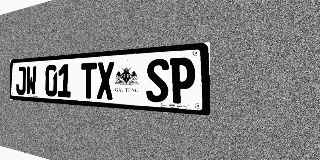0: (45, 65, 57, 97)
1: (57, 64, 71, 97)
J: (16, 66, 26, 95)
P: (170, 57, 195, 104)
S: (146, 58, 169, 103)
T: (81, 62, 97, 99)
W: (26, 66, 36, 96)
X: (97, 61, 114, 100)
